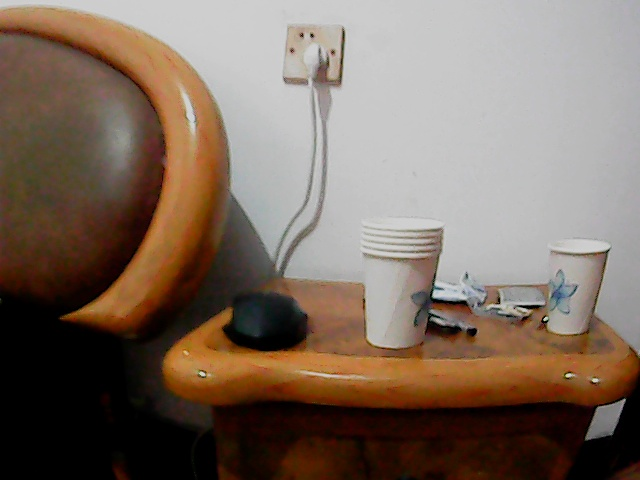cup: (358, 215, 445, 349)
mouse: (223, 288, 310, 348)
